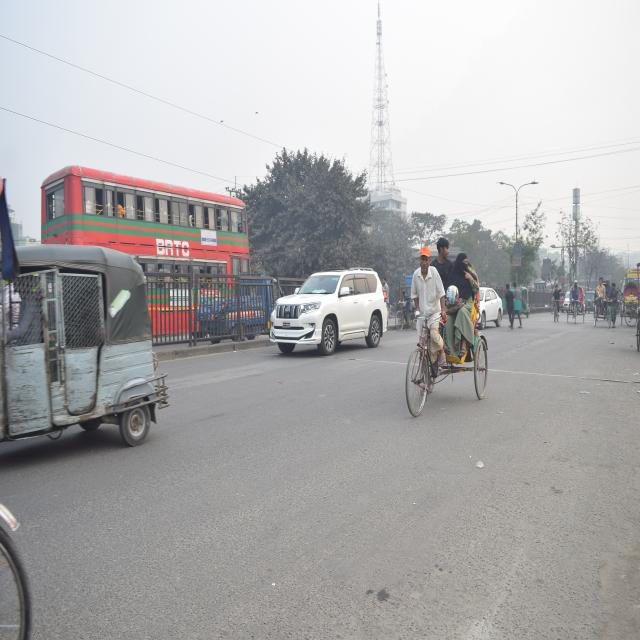bus: (26, 169, 256, 336)
car: (264, 256, 396, 364), (480, 284, 510, 343)
